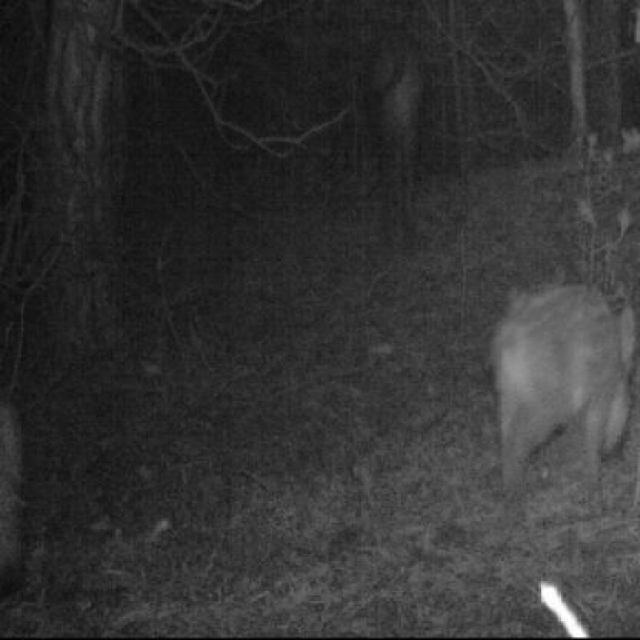Boar: (480, 243, 635, 499)
